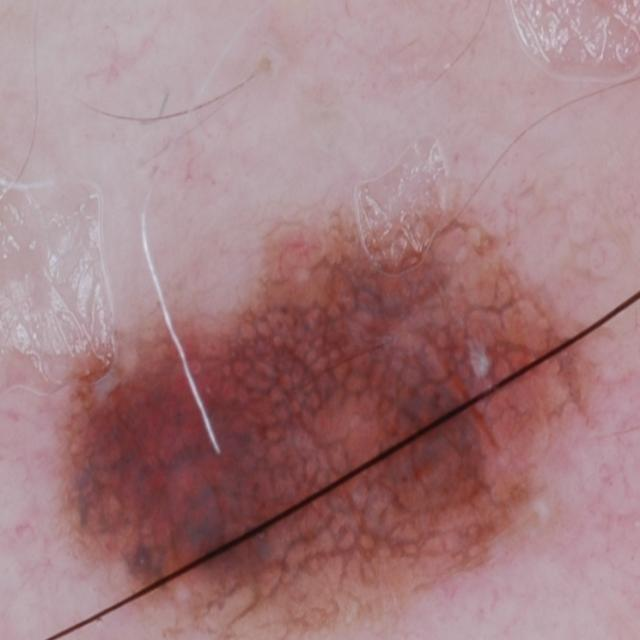Melanoma: (76, 186, 621, 632)
